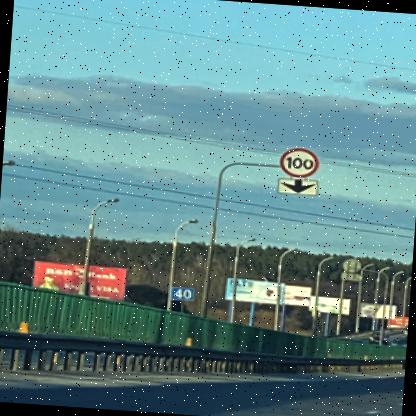speedlimit: (277, 146, 317, 178)
